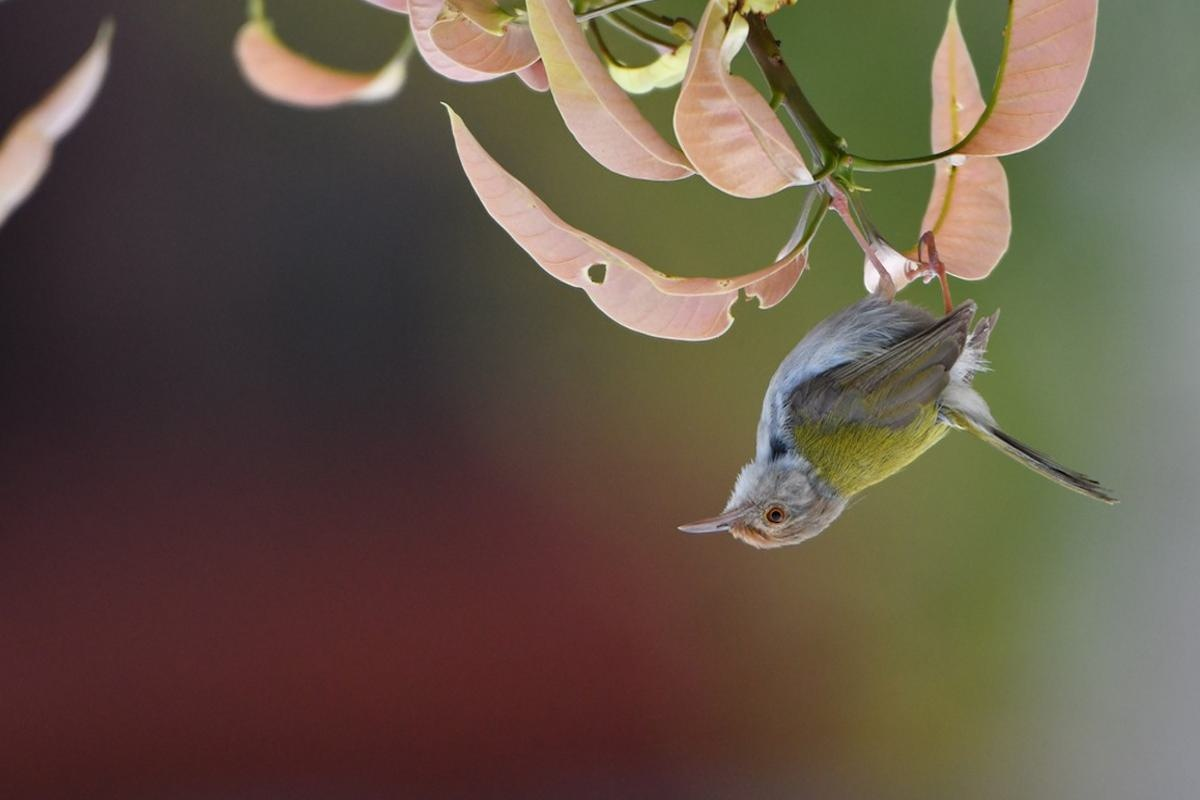tailorbird: (669, 257, 1164, 582)
